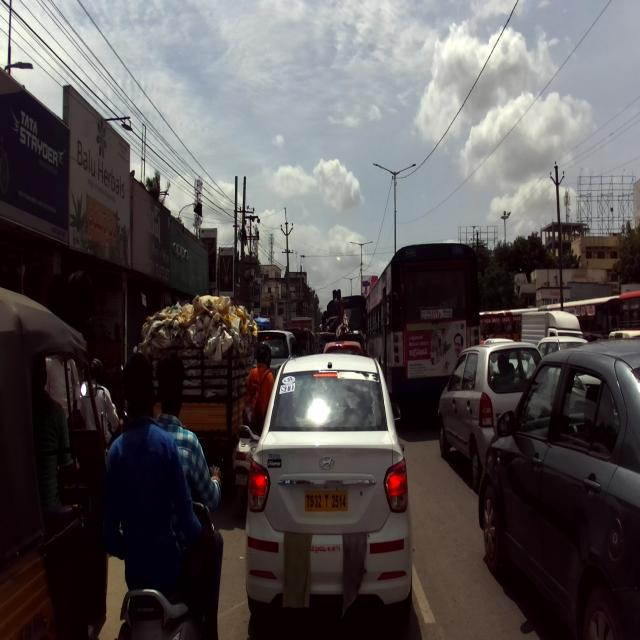autorickshaw: (0, 286, 108, 639), (138, 295, 258, 494)
bus: (362, 242, 479, 429)
car: (477, 338, 640, 640), (244, 354, 414, 620), (437, 338, 544, 490)
motorcycle: (232, 406, 269, 516)
scooter: (116, 467, 224, 639)
